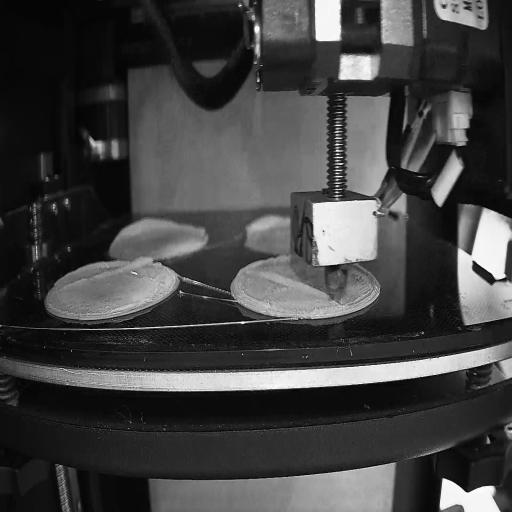over_extrusion: (60, 250, 154, 290), (250, 268, 328, 300), (111, 216, 206, 241), (245, 211, 288, 241)
